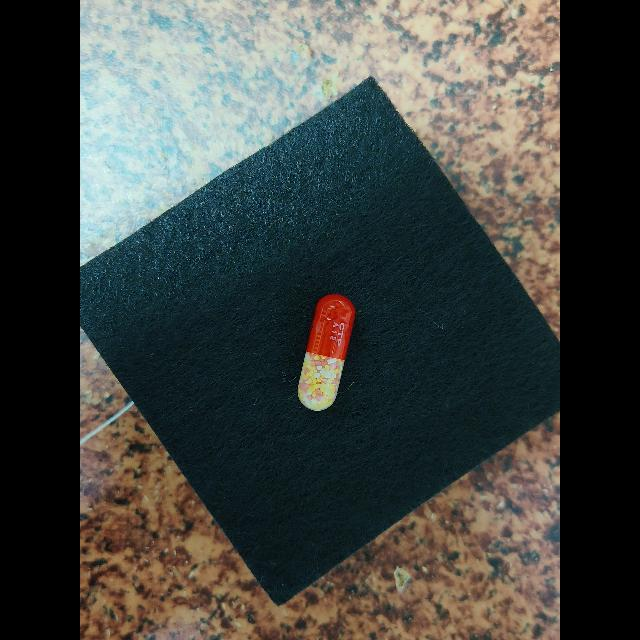Intact Capsule: (298, 294, 356, 411)
